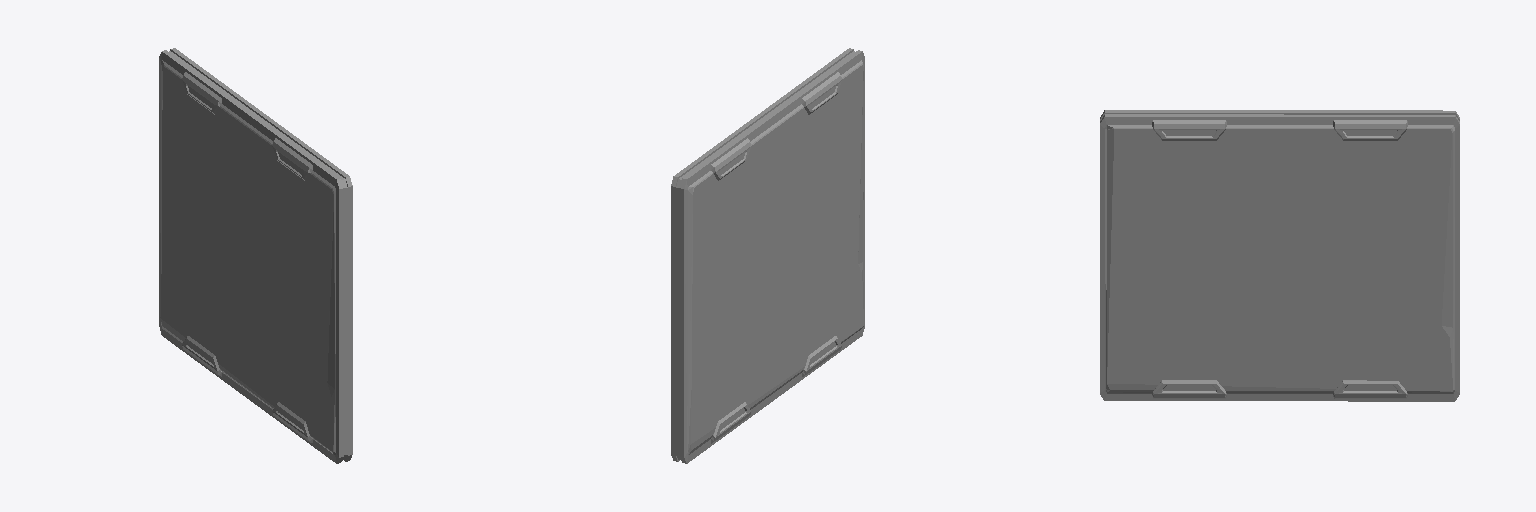
Rendered from wall_xxl.obj.
3 renders of one model, left to right at view 1: azimuth 30°, elevation 25°; view 2: azimuth 150°, elevation 25°; view 3: azimuth 270°, elevation 25°, orthographic.
Visible parts, largest first — view 1: default-default.000_default-default.000; view 2: default-default.000_default-default.000; view 3: default-default.000_default-default.000.
Boxes of the visible parts, x1=… form: default-default.000_default-default.000: x1=159, y1=48, x2=352, y2=463; default-default.000_default-default.000: x1=671, y1=48, x2=864, y2=463; default-default.000_default-default.000: x1=1100, y1=110, x2=1459, y2=401.
Size of the model in its own units: 0.3105 by 3.79 by 4.35.